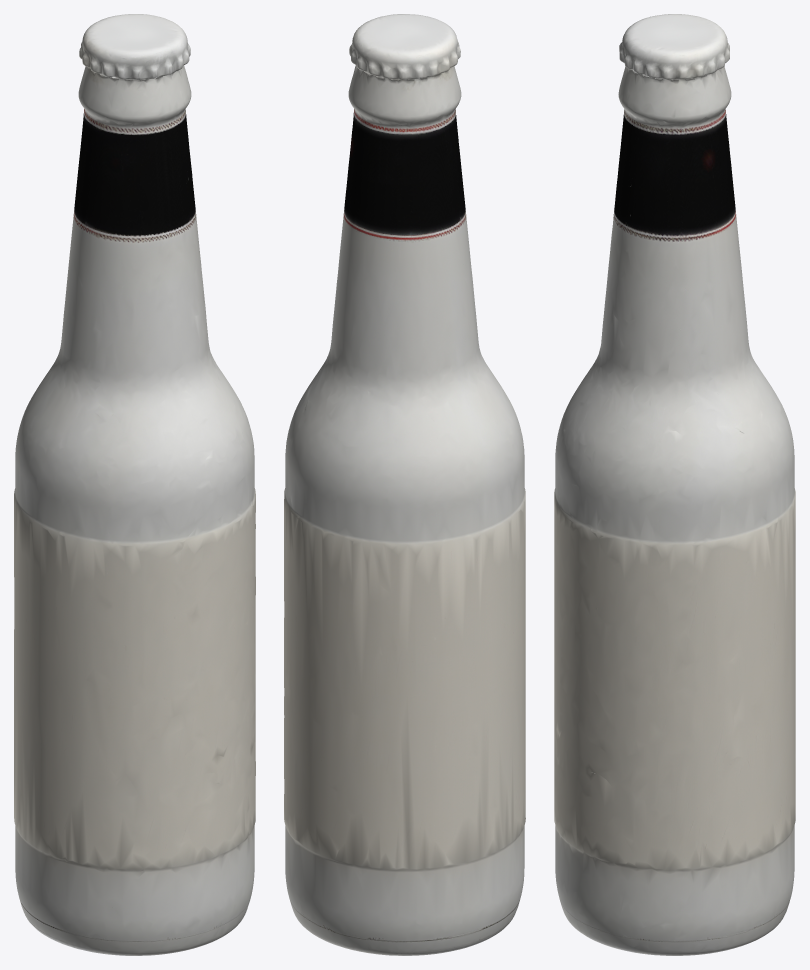
File: glass-iced-dinein.glb
The picture shows the model from 3 angles, left to right: view 1: azimuth 30°, elevation 25°; view 2: azimuth 150°, elevation 25°; view 3: azimuth 270°, elevation 25°; orthographic projection.
Visible parts, largest first — view 1: Mesh_0; view 2: Mesh_0; view 3: Mesh_0.
Part boxes in pixels (x1,y1,x2,y2): Mesh_0: (14, 14, 255, 955); Mesh_0: (284, 14, 525, 955); Mesh_0: (554, 14, 795, 955).
Size of the model in its own units: 15578 by 62649 by 15578.
Materials: 1 (1 with a texture image).
